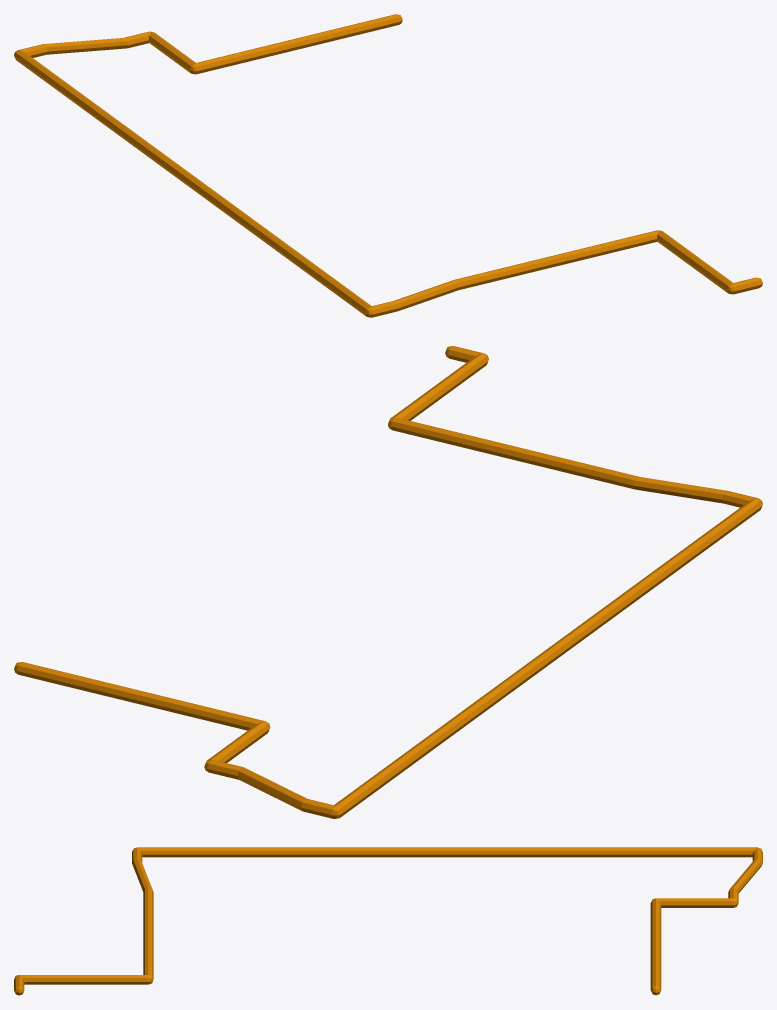
3 views of the same model, one above another, from view 1: azimuth 30°, elevation 25°; view 2: azimuth 150°, elevation 25°; view 3: azimuth 270°, elevation 25° (orthographic). The views are drawn at different scales.
Size of the model in its own units: 653 by 20 by 1448.
